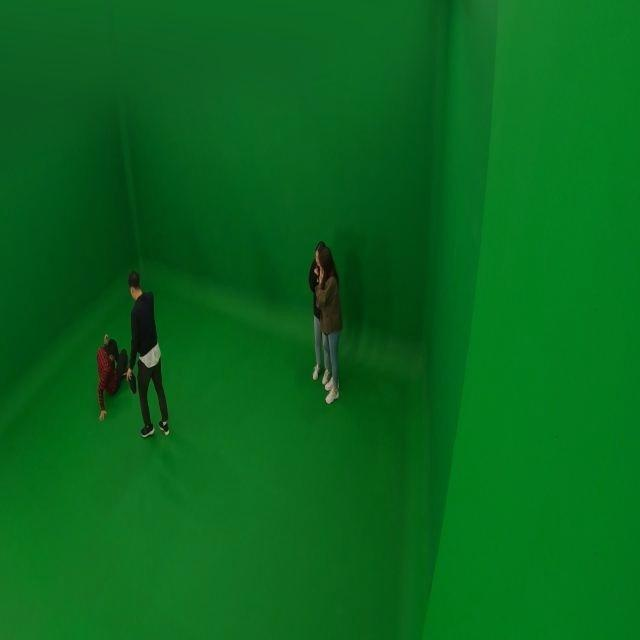fight: (94, 271, 170, 440)
non-fight: (307, 239, 347, 402)
